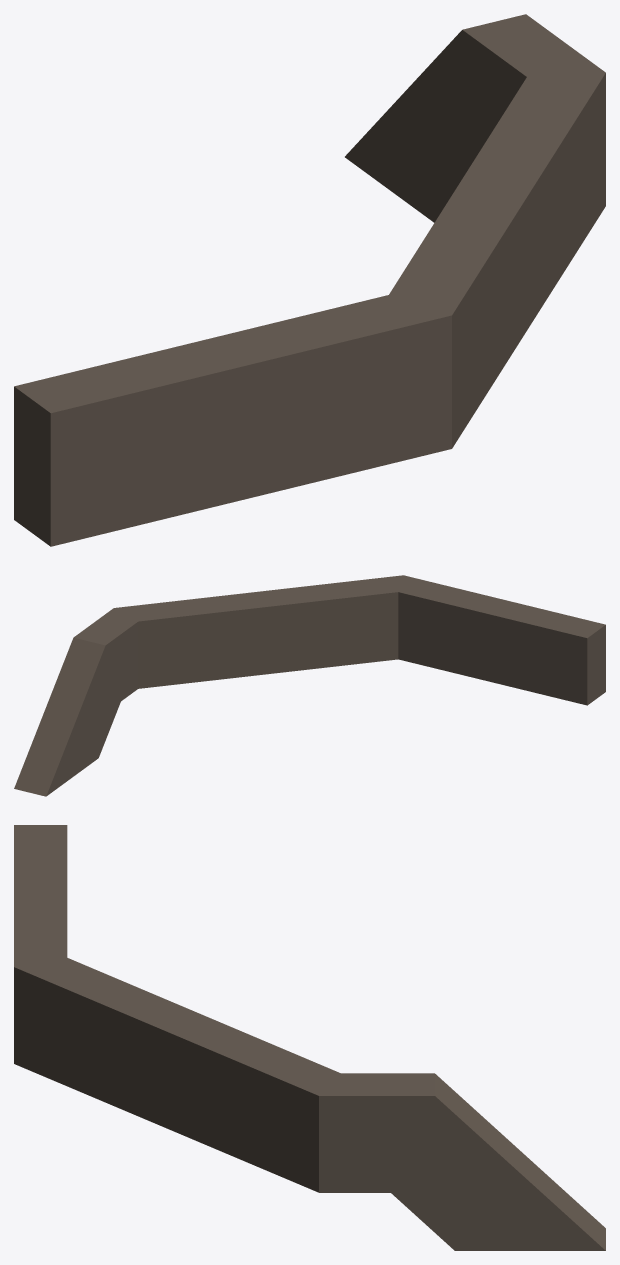
File: x_KREPOST_wall_13_perehod_perila1_mirror.fbx
The picture shows the model from 3 angles, top to bottom: view 1: azimuth 30°, elevation 25°; view 2: azimuth 150°, elevation 25°; view 3: azimuth 270°, elevation 25°; orthographic projection. The views are drawn at different scales.
Parts seen in each view (by area): view 1: x_KREPOST_wall_13_perehod_perila1_mirror1; view 2: x_KREPOST_wall_13_perehod_perila1_mirror1; view 3: x_KREPOST_wall_13_perehod_perila1_mirror1.
Boxes of the visible parts, <box> form: x_KREPOST_wall_13_perehod_perila1_mirror1: <box>14,14,605,546</box>; x_KREPOST_wall_13_perehod_perila1_mirror1: <box>14,575,605,796</box>; x_KREPOST_wall_13_perehod_perila1_mirror1: <box>14,825,605,1250</box>.
Bounding box in the file's own units: 3 × 0.8 × 2.77.
